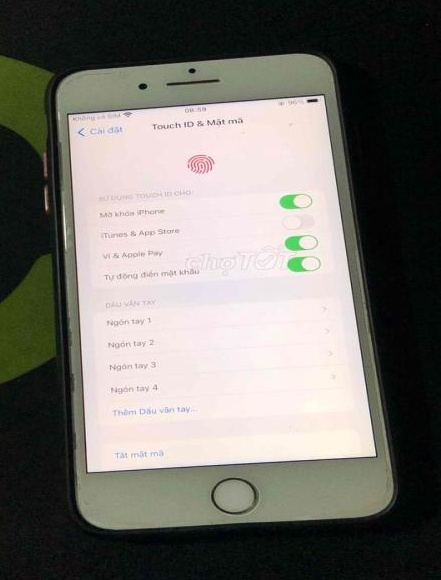scratch: (60, 302, 87, 510), (57, 66, 148, 80), (374, 446, 397, 497), (49, 200, 70, 249)
